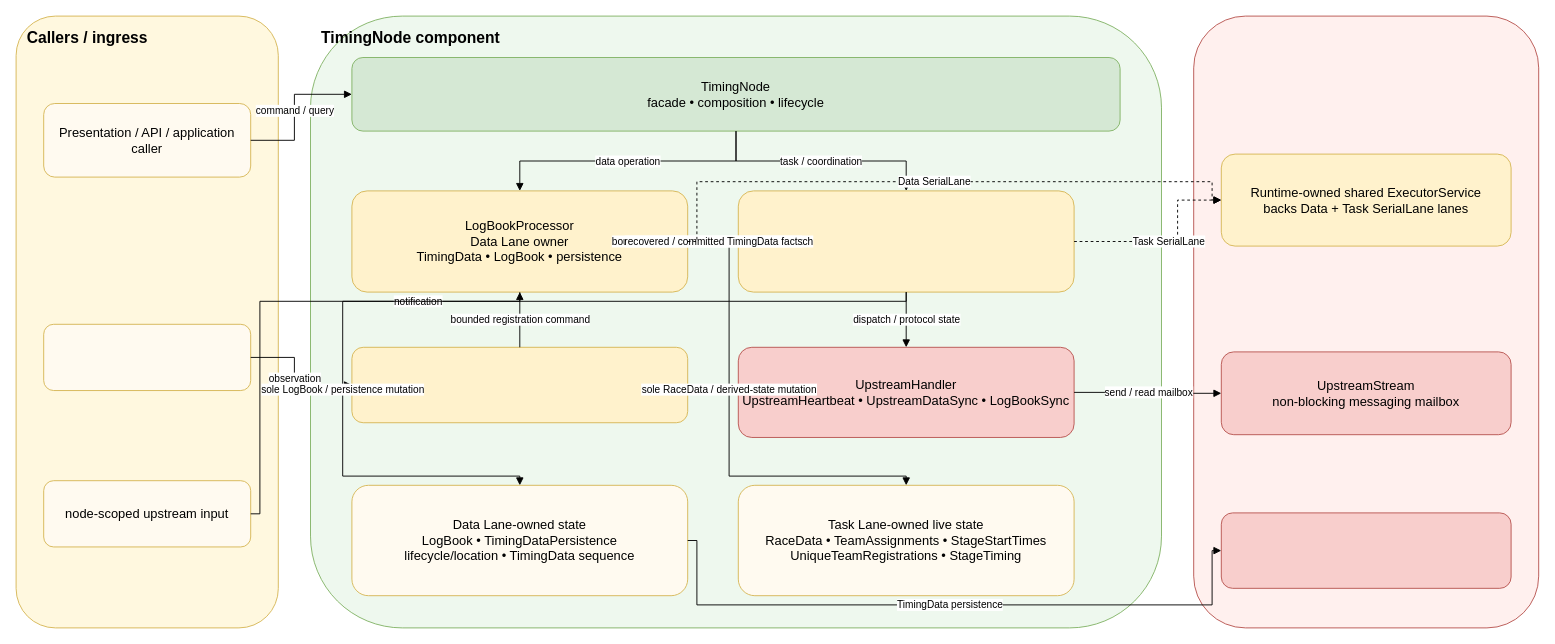
Some shapes in this 1555 by 644 pixel diagram are drawn without their labels. Each missing label, with the box of its shape:
Antenna observations: (43, 323, 251, 391)
AppendOnlyRecordStore FileAppendOnlyRecordStore: (1220, 512, 1511, 588)
NodeTaskProcessor Task Lane owner RaceData • derived timing • protocol: (737, 190, 1074, 292)
Runtime / I/O: (1193, 15, 1539, 628)
TagProcessor independent scheduled lane: (351, 346, 688, 423)
